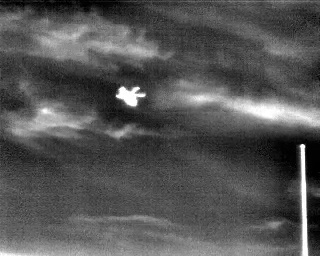HELICOPTER: (113, 81, 150, 112)
